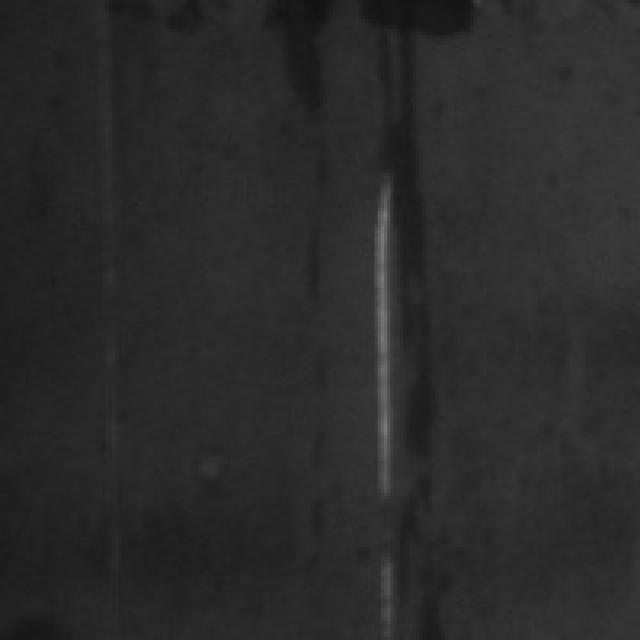inclusion: (278, 0, 339, 128)
scratches: (365, 173, 416, 637)
